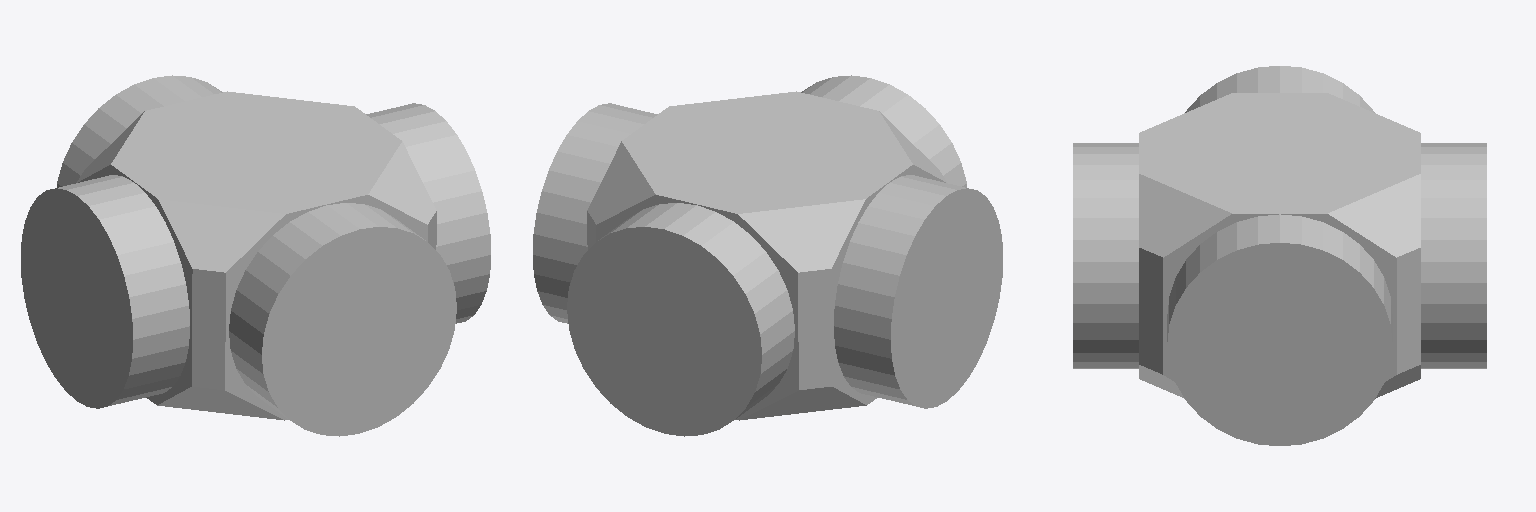
The model's file is geo-8d2dbdef-ff3c-4a86-ad2c-6fcb632c715a.obj.
3 renders of one model, left to right at view 1: azimuth 30°, elevation 25°; view 2: azimuth 150°, elevation 25°; view 3: azimuth 270°, elevation 25°, orthographic.
Visible parts, largest first — view 1: 0; view 2: 0; view 3: 0.
Boxes of the visible parts, x1,y1,x2,y2 form: 0: [21, 75, 490, 436]; 0: [533, 75, 1002, 436]; 0: [1073, 66, 1486, 445].
Size of the model in its own units: 22.07 by 12.19 by 22.